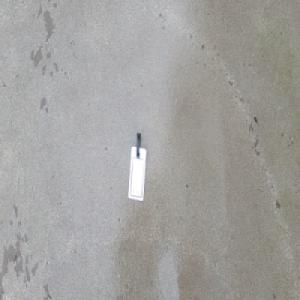LuggageTag: (126, 131, 147, 204)
